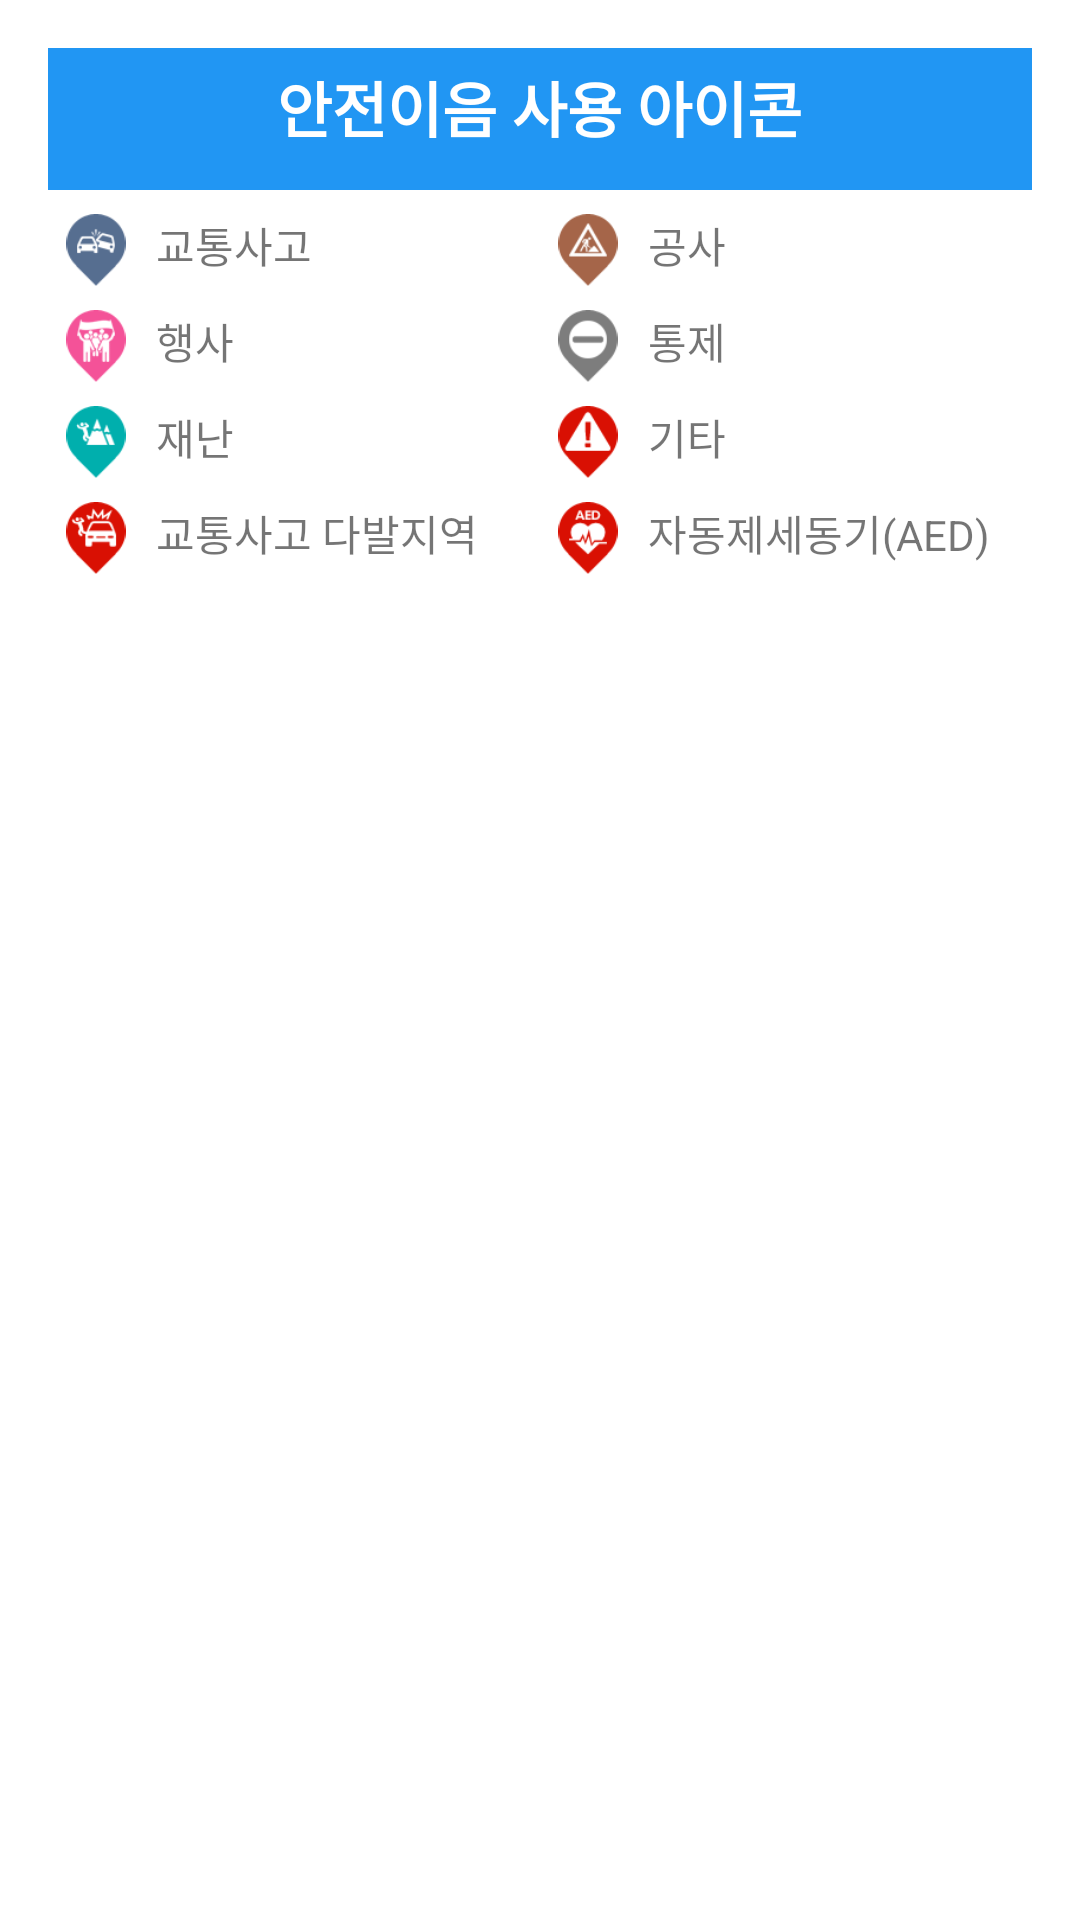

Icon click points for this 1080×1920 phone screenshot, format point (x, y):
accident: point (96, 250)
construction: point (588, 250)
control: point (588, 346)
disaster: point (96, 442)
event: point (96, 346)
